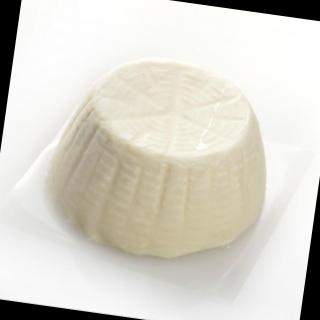Tahu: (53, 50, 275, 282)
